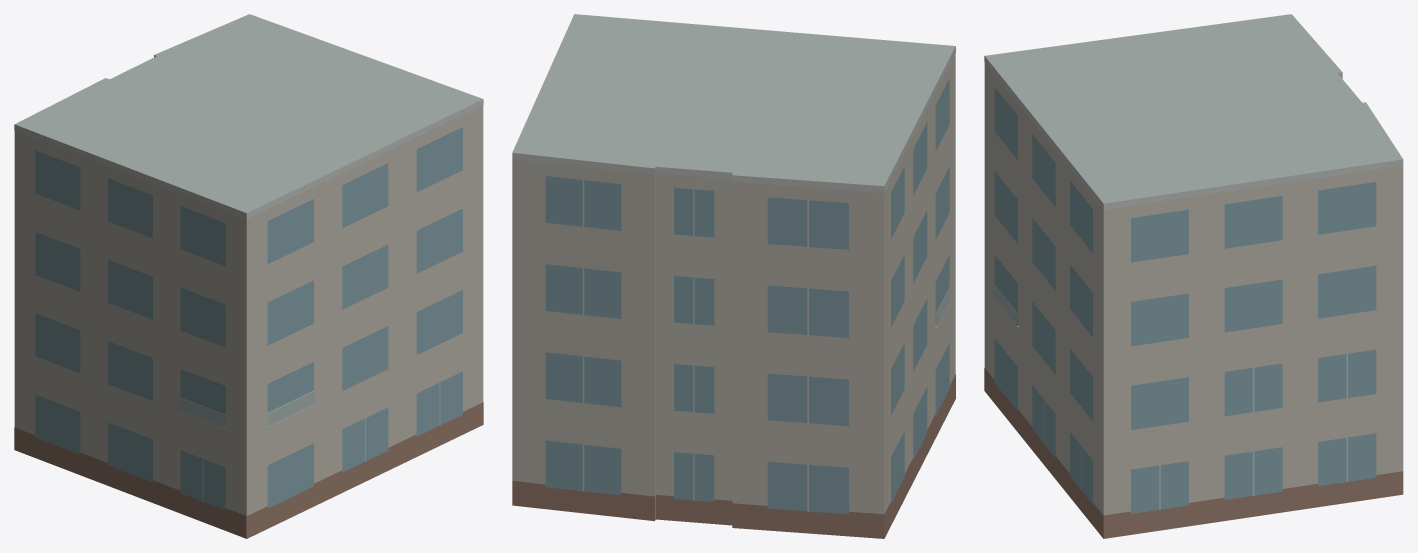
The model's file is survey-upis-32749289.glb.
3 views of the same model, side by side, from view 1: azimuth 30°, elevation 25°; view 2: azimuth 150°, elevation 25°; view 3: azimuth 270°, elevation 25° (orthographic). The views are drawn at different scales.
Parts seen in each view (by area): view 1: survey-upis-32749289.tmp; view 2: survey-upis-32749289.tmp; view 3: survey-upis-32749289.tmp.
Part boxes in pixels (<box>): survey-upis-32749289.tmp: <box>14,14,483,538</box>; survey-upis-32749289.tmp: <box>512,14,955,538</box>; survey-upis-32749289.tmp: <box>984,14,1403,538</box>.
Size of the model in its own units: 15.66 by 12.9 by 14.62.
